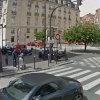Car: (3, 65, 82, 100)
